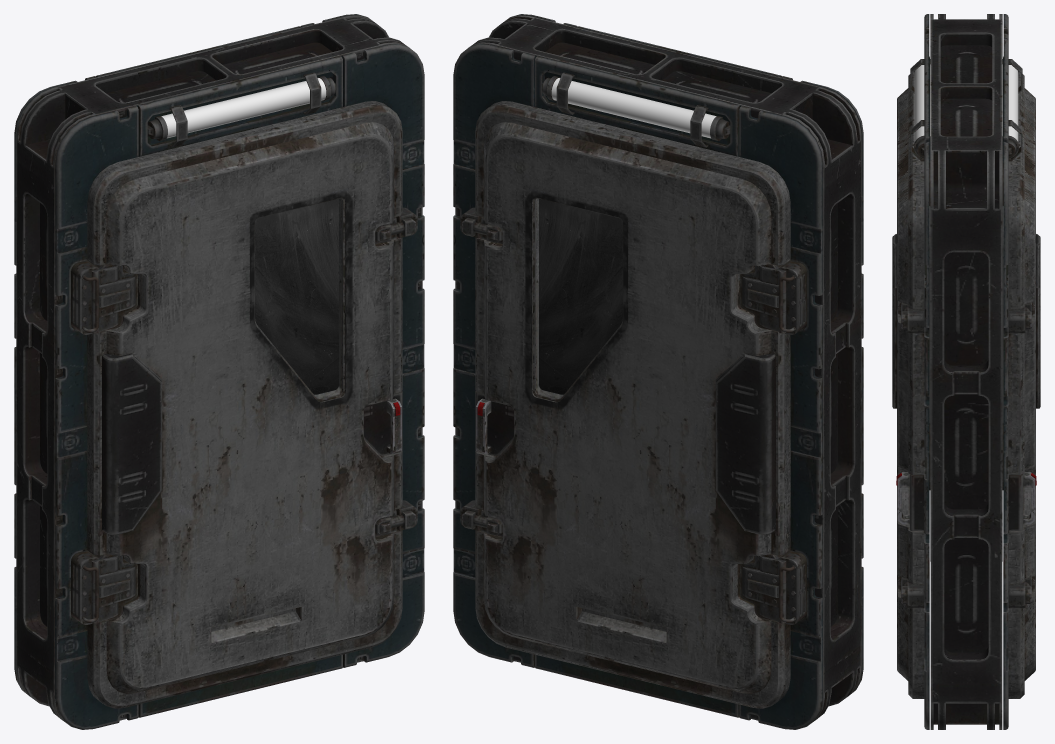
Rendered from EscapeDoorModel.dae.
The picture shows the model from 3 angles, left to right: view 1: azimuth 30°, elevation 25°; view 2: azimuth 150°, elevation 25°; view 3: azimuth 270°, elevation 25°; orthographic projection. The views are drawn at different scales.
Parts seen in each view (by area): view 1: A1.003, A1.002, windows, light_door; view 2: A1.003, A1.002, windows, light_door; view 3: A1.002, A1.003, light_door.
Part boxes in pixels (box(x1,y1,x2,y2)): A1.003: box(14, 14, 424, 729); A1.002: box(16, 15, 422, 723); windows: box(255, 199, 338, 394); light_door: box(161, 78, 326, 138); A1.003: box(453, 14, 863, 729); A1.002: box(455, 15, 861, 723); windows: box(539, 199, 622, 394); light_door: box(551, 78, 716, 138); A1.002: box(930, 14, 1002, 729); A1.003: box(892, 14, 1040, 729); light_door: box(914, 64, 1018, 141).
Bounding box in the file's own units: 20.16 × 7.49 × 32.
